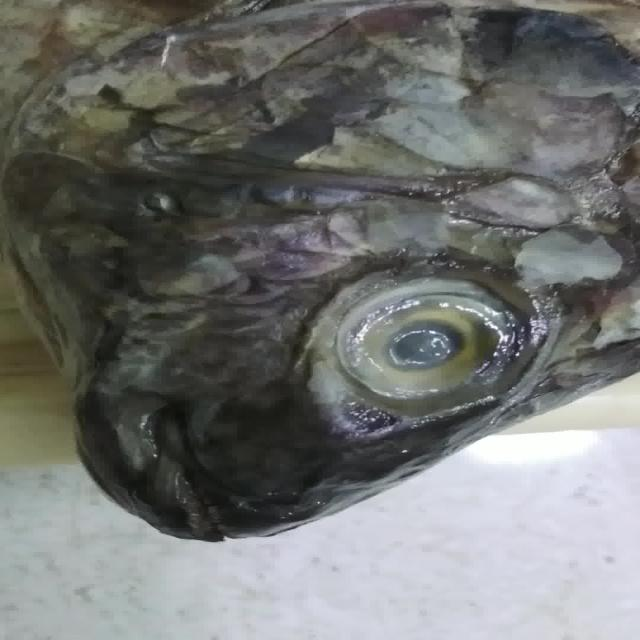Non-Fresh: (314, 261, 531, 419)
